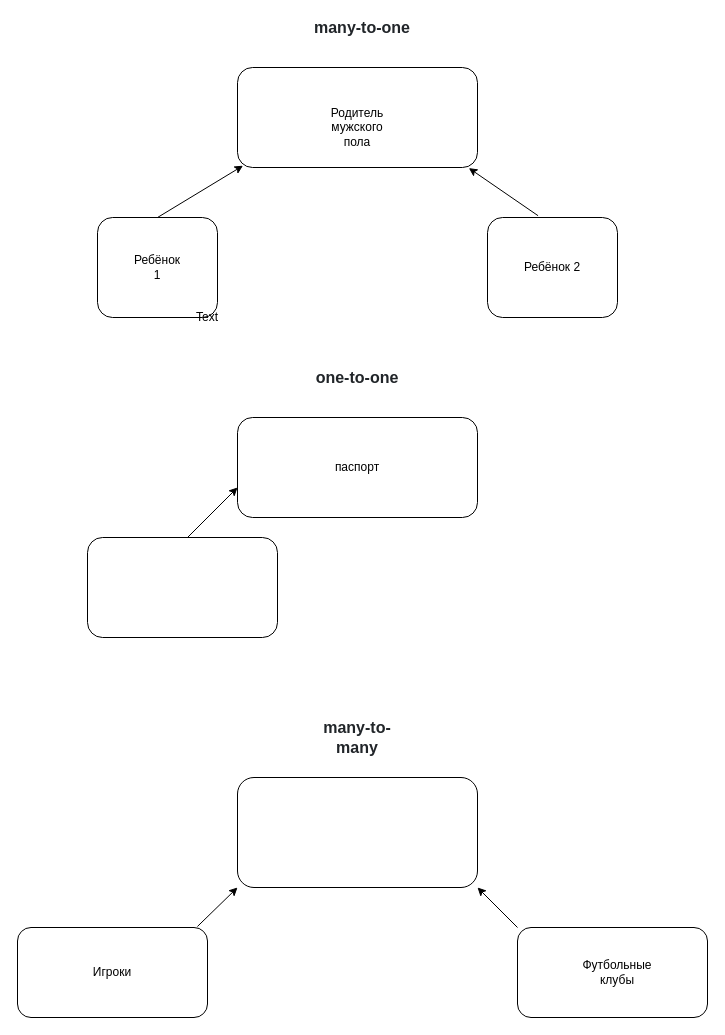
The diagram is 725 pixels wide and 1035 high, and some of its shapes have lost their labels. The shapes that lost their labels are listed below. From the top down, each one's centre as x and y in pixels, then its label:
(182,587): днк
(357,832): Футбольные команды
